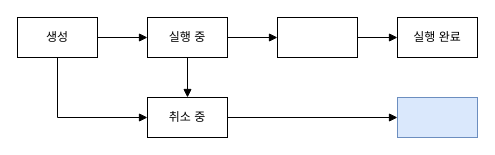
Image size: 495x155. Some labels were removed from this diagram. Each missing label, with the box of its shape:
실행 완료 중: (276, 16, 358, 58)
취소 완료: (396, 96, 478, 138)
